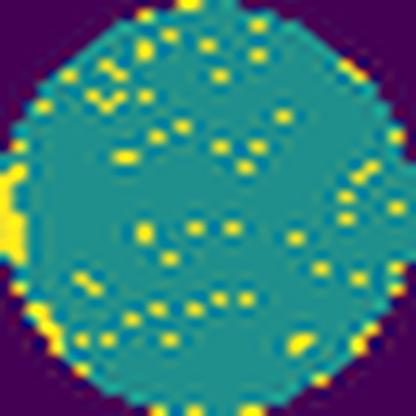Edge-Loc: (0, 160, 31, 268), (22, 303, 67, 357)
